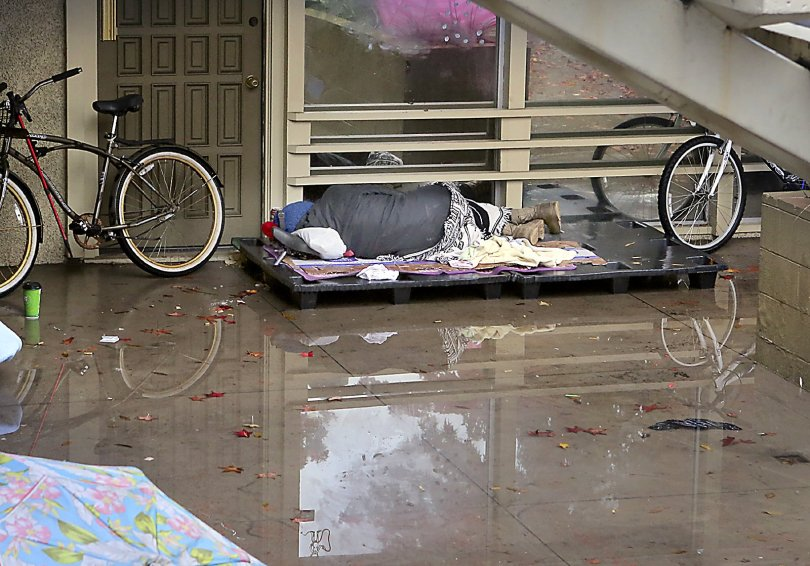person: (255, 190, 592, 254)
water: (273, 316, 748, 566), (51, 297, 274, 458), (715, 380, 807, 566), (525, 297, 738, 348), (194, 448, 296, 531), (1, 358, 49, 451)
